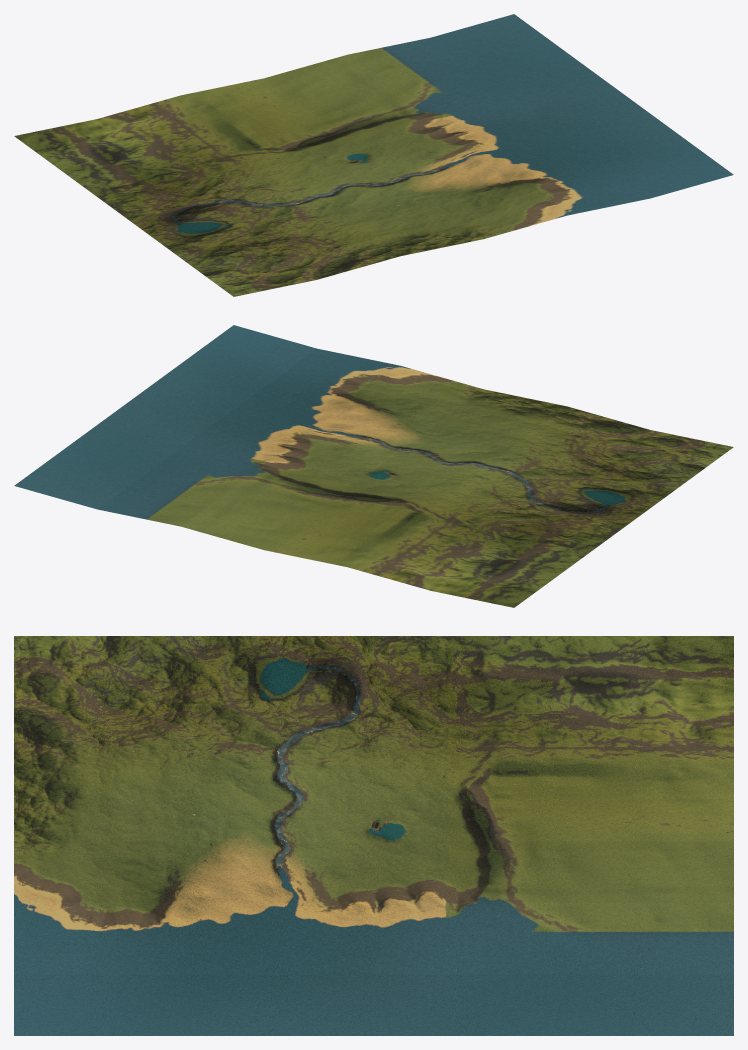
Rendered from map.glb.
The picture shows the model from 3 angles, top to bottom: view 1: azimuth 30°, elevation 25°; view 2: azimuth 150°, elevation 25°; view 3: azimuth 270°, elevation 25°; orthographic projection. The views are drawn at different scales.
Visible parts, largest first — view 1: map; view 2: map; view 3: map.
Part boxes in pixels (<box>): map: <box>14,14,733,296</box>; map: <box>14,325,733,607</box>; map: <box>14,636,733,1035</box>.
Bounding box in the file's own units: 0.8999 × 0.00558 × 0.6847.
Materials: 1 (1 with a texture image).
